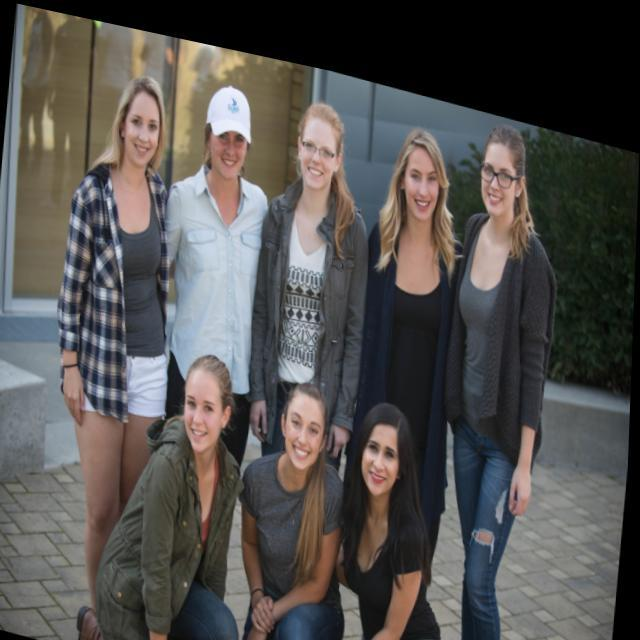Nonhelmet: (161, 346, 242, 462), (347, 398, 426, 500), (106, 65, 173, 185), (279, 94, 353, 200), (266, 374, 339, 480), (470, 119, 537, 229), (386, 123, 453, 228)
